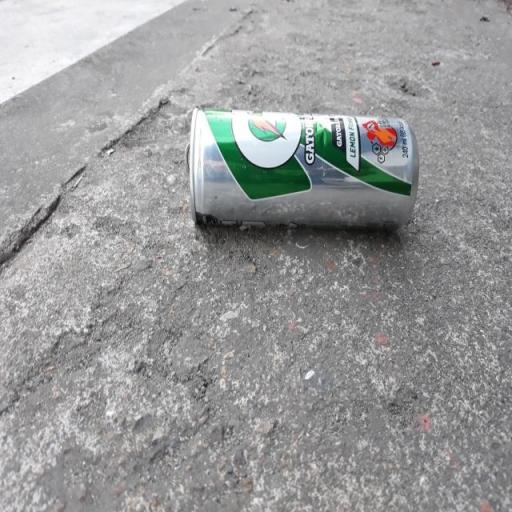metal: (166, 82, 437, 271)
